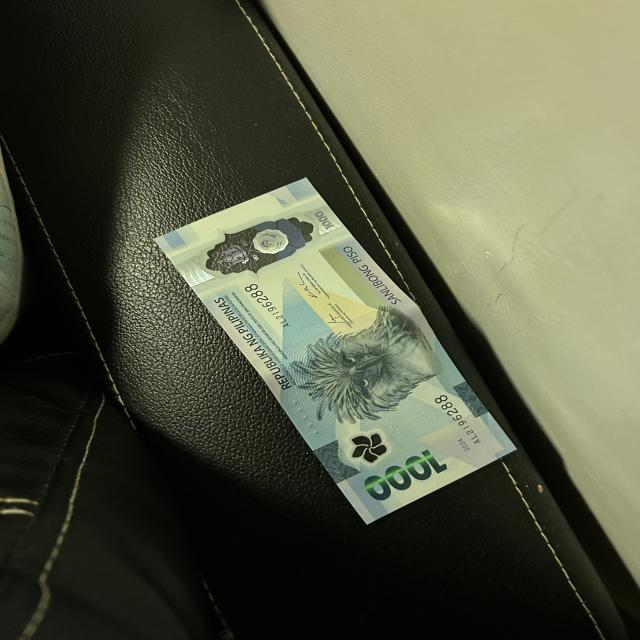clear_window: (204, 218, 316, 273)
eagle: (297, 319, 432, 417)
sampaguita: (345, 432, 392, 462)
